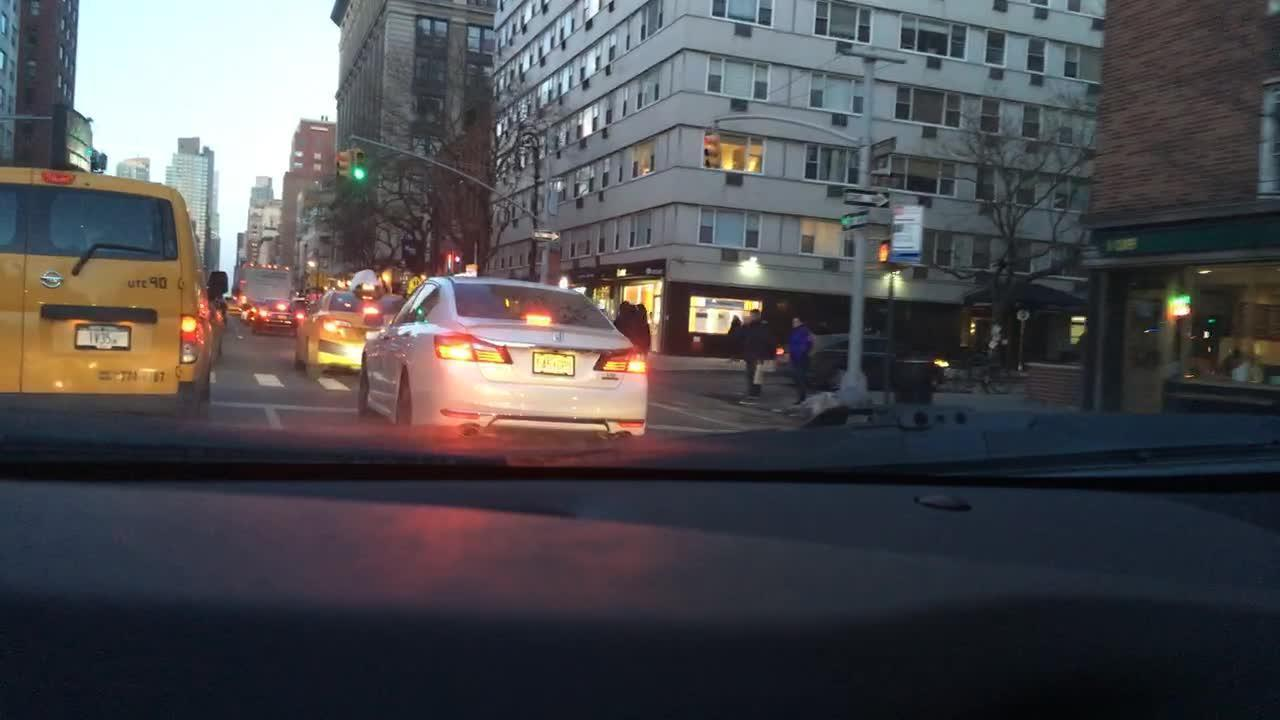Nissan: (36, 268, 67, 292)
